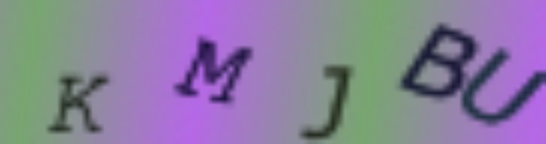B: (399, 21, 480, 101)
J: (296, 60, 357, 143)
K: (45, 69, 115, 137)
M: (172, 34, 254, 107)
U: (459, 45, 546, 128)
